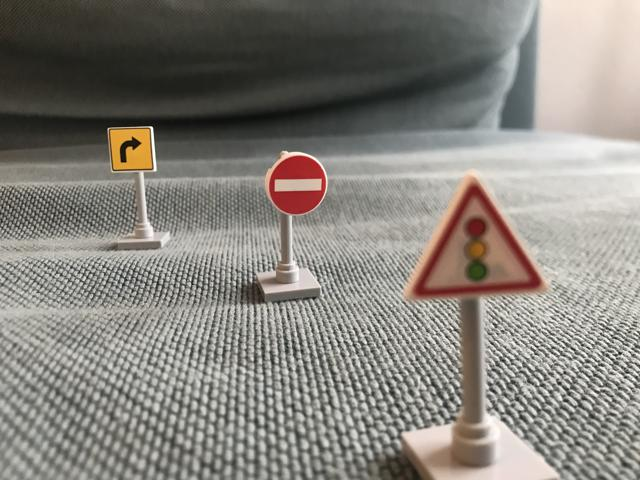fahrtrichtung rechts: (108, 125, 162, 176)
lichtzeichenanlage: (410, 172, 546, 299)
verbot der einfahrt: (264, 152, 331, 217)
